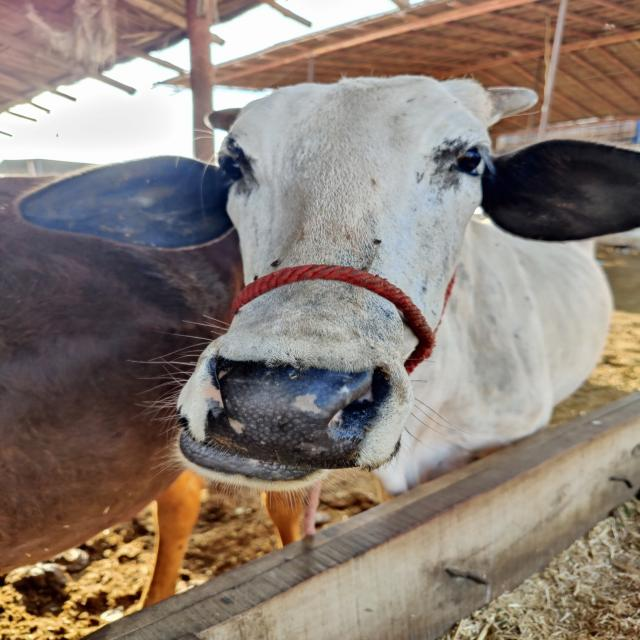muzzles: (205, 342, 396, 466)
